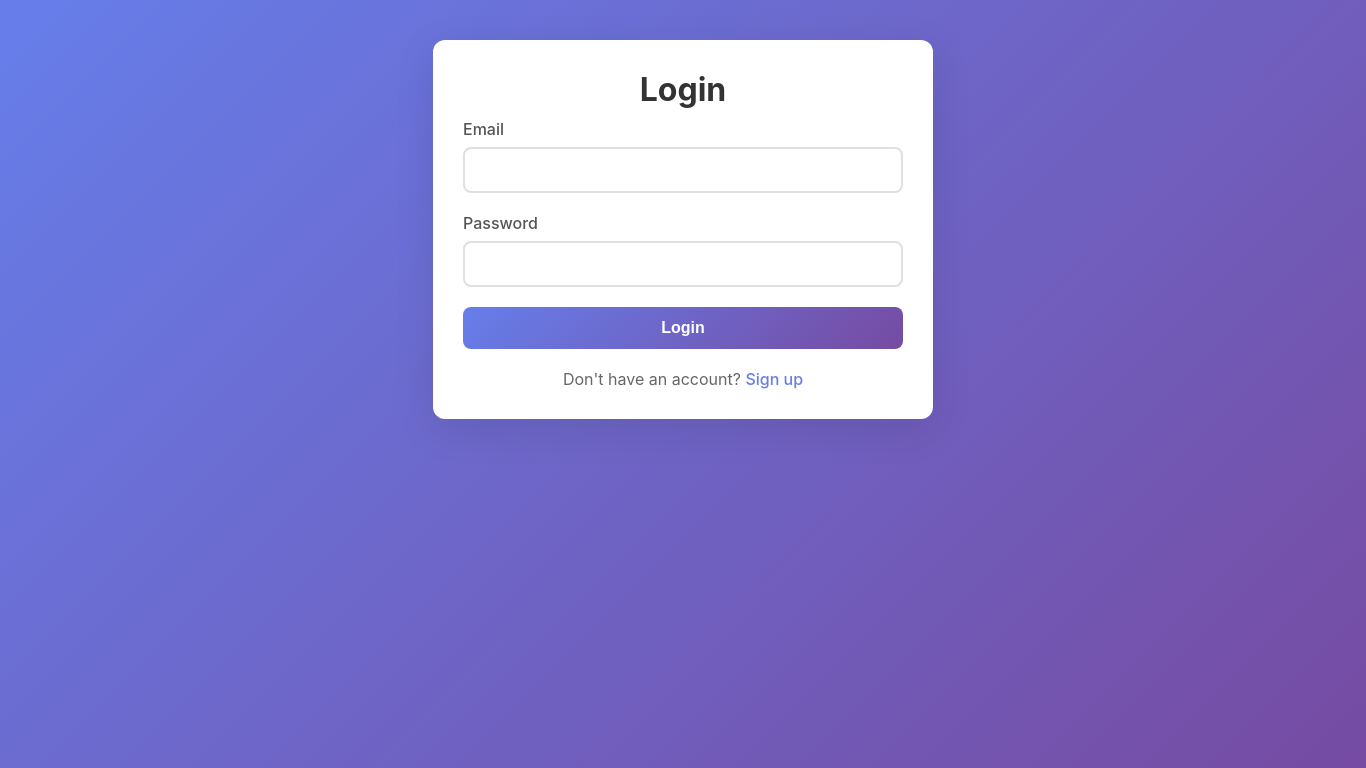
Test: Login › shows error message on failed login
Type "test@example.com" into the field labelled "Email" at x=683, y=170, box [463,147,903,193]
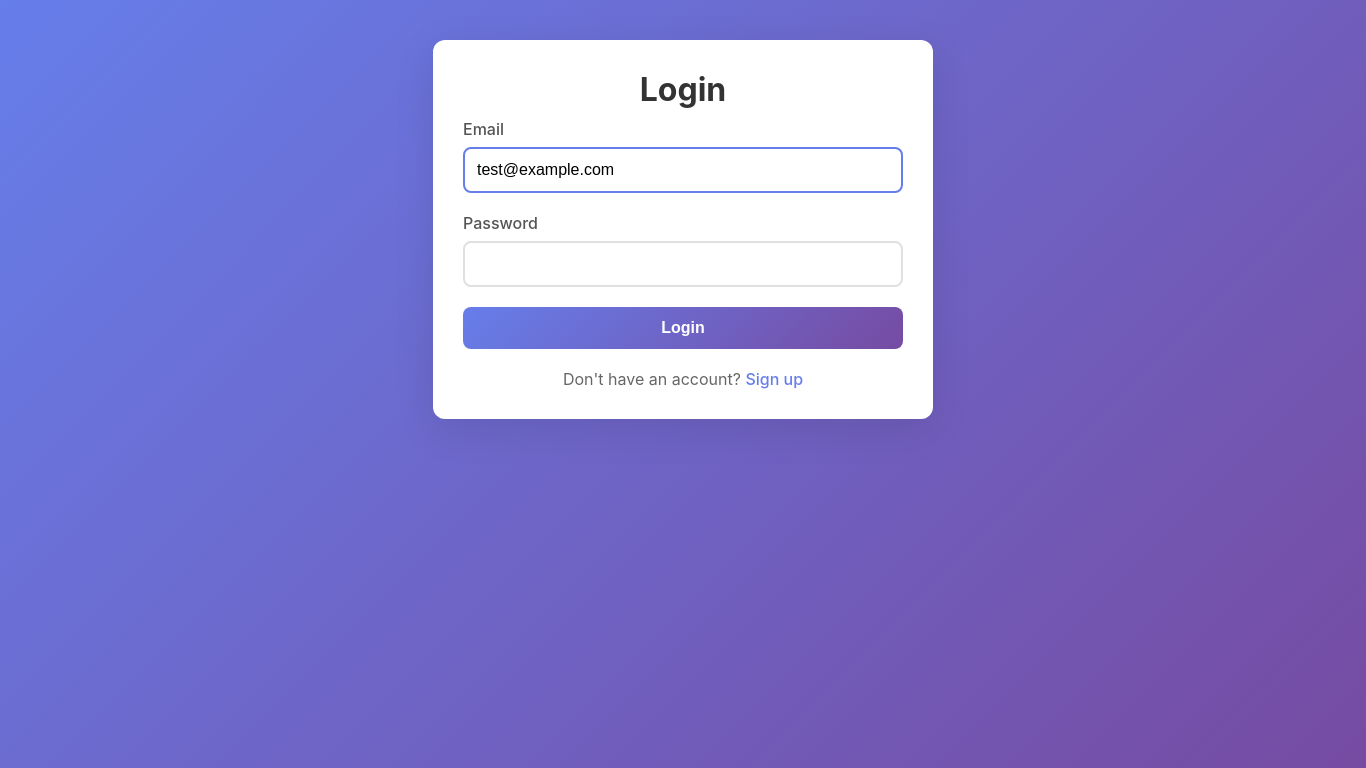
Type "wrongpassword" into the password field labelled "Password" at x=683, y=264, box [463,241,903,287]
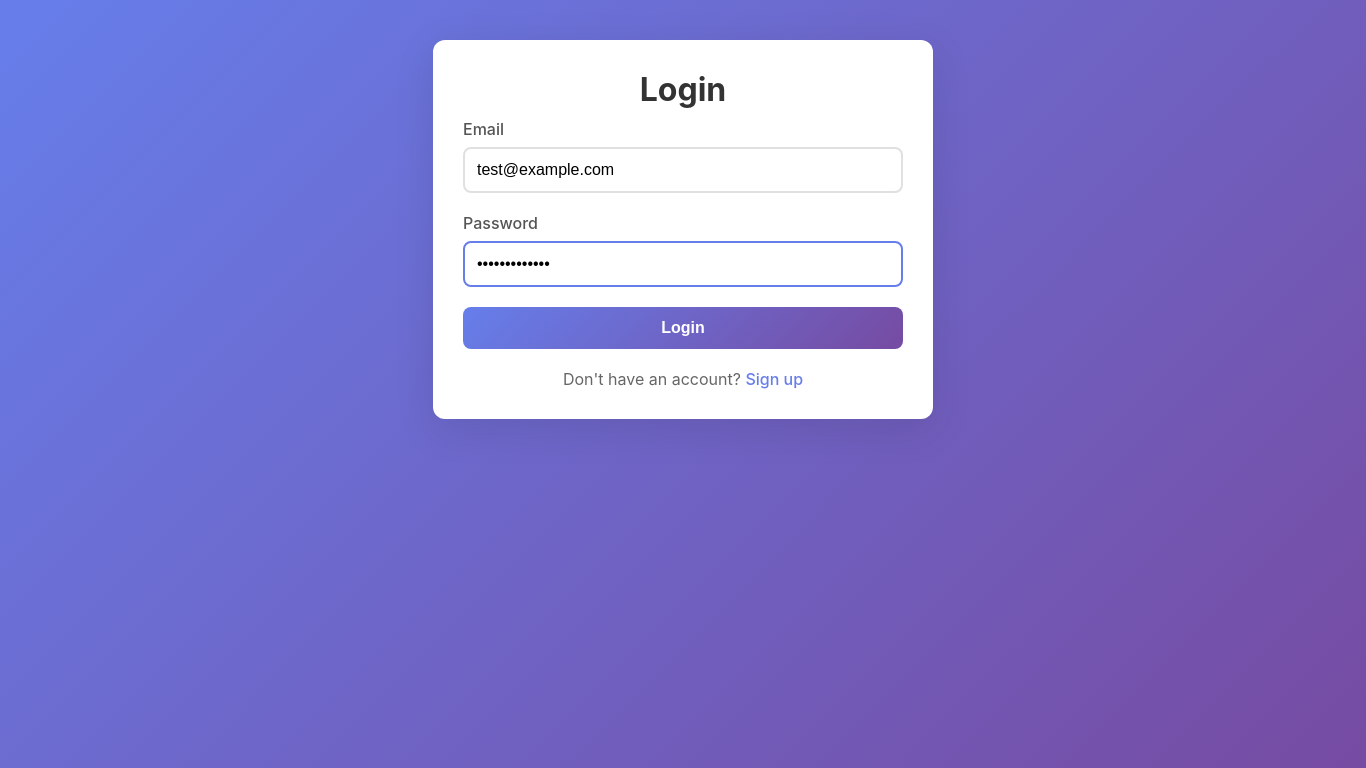
Click the button "Login" at x=683, y=328, box [463,307,903,349]
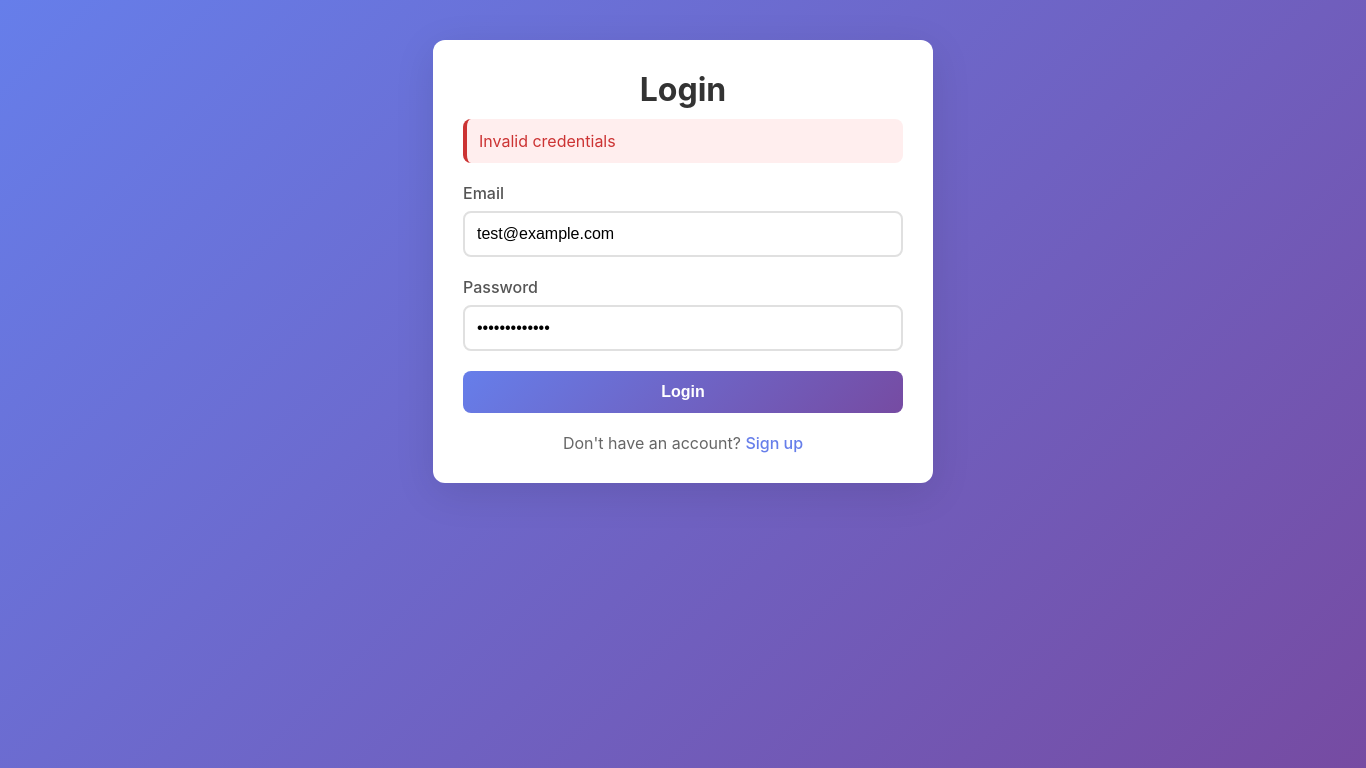
Now the text "Invalid credentials" is shown, box [463,119,903,163]
